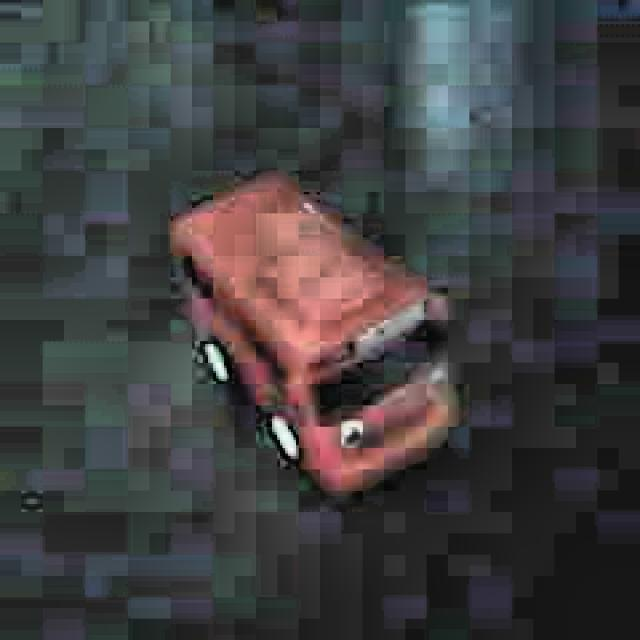bus: (148, 155, 470, 506)
